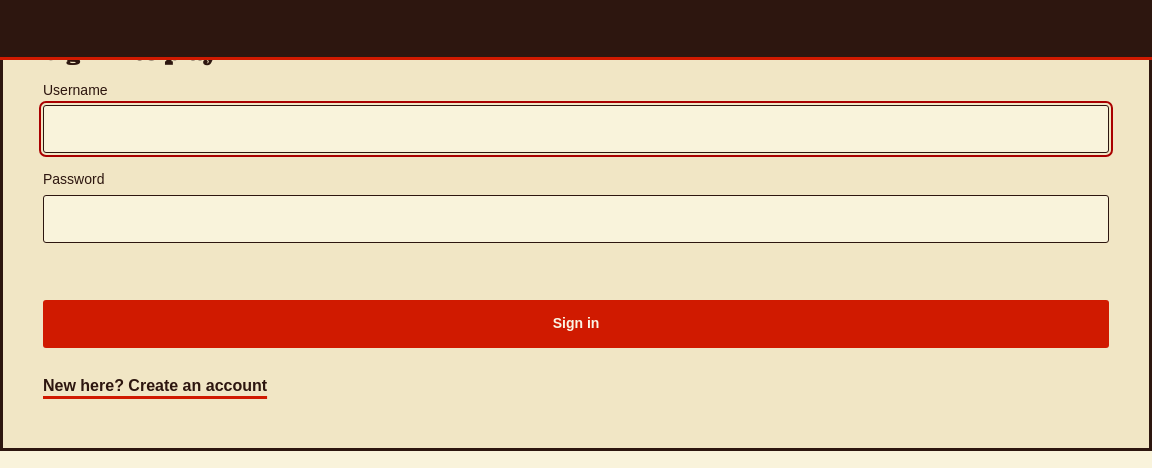
Scenario: AuthForm: signing in › asks for both fields when username is "" and password is "correct horse"
Type "correct horse" into the password field labelled "Password" at (576, 219), box x1=43 y1=195 x2=1109 y2=243
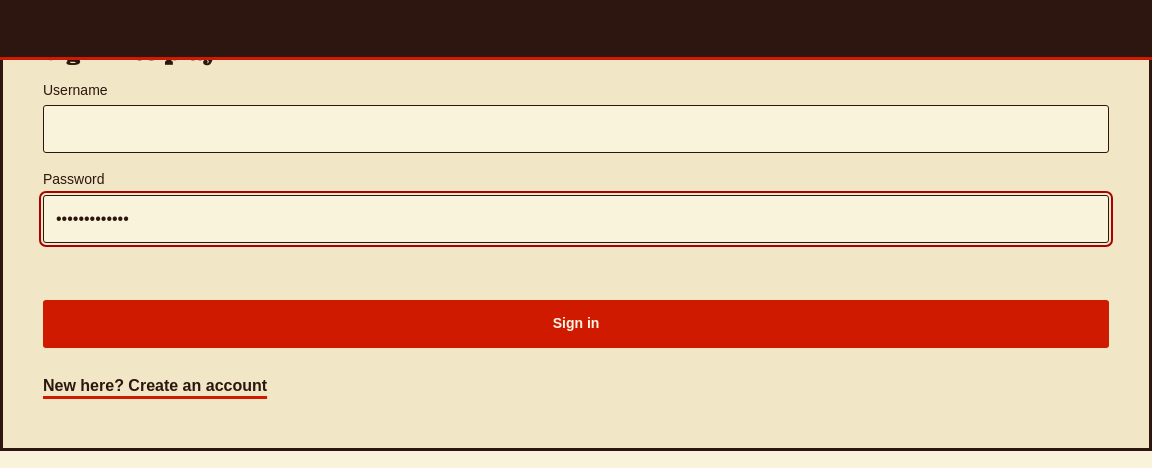
Click the button "Sign in" at (576, 324), box x1=43 y1=300 x2=1109 y2=348
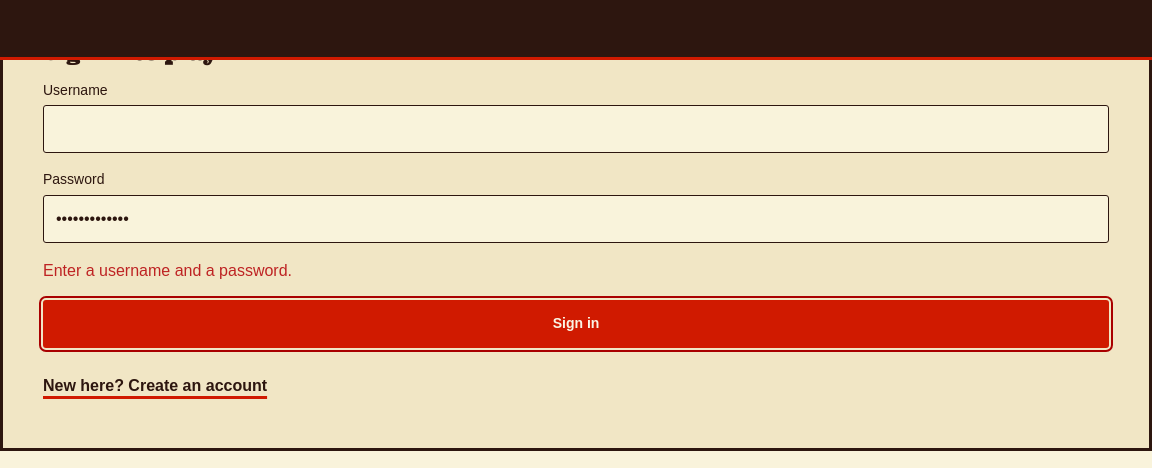
Check: the message reads "Enter a username and a password.", box x1=43 y1=262 x2=292 y2=279
